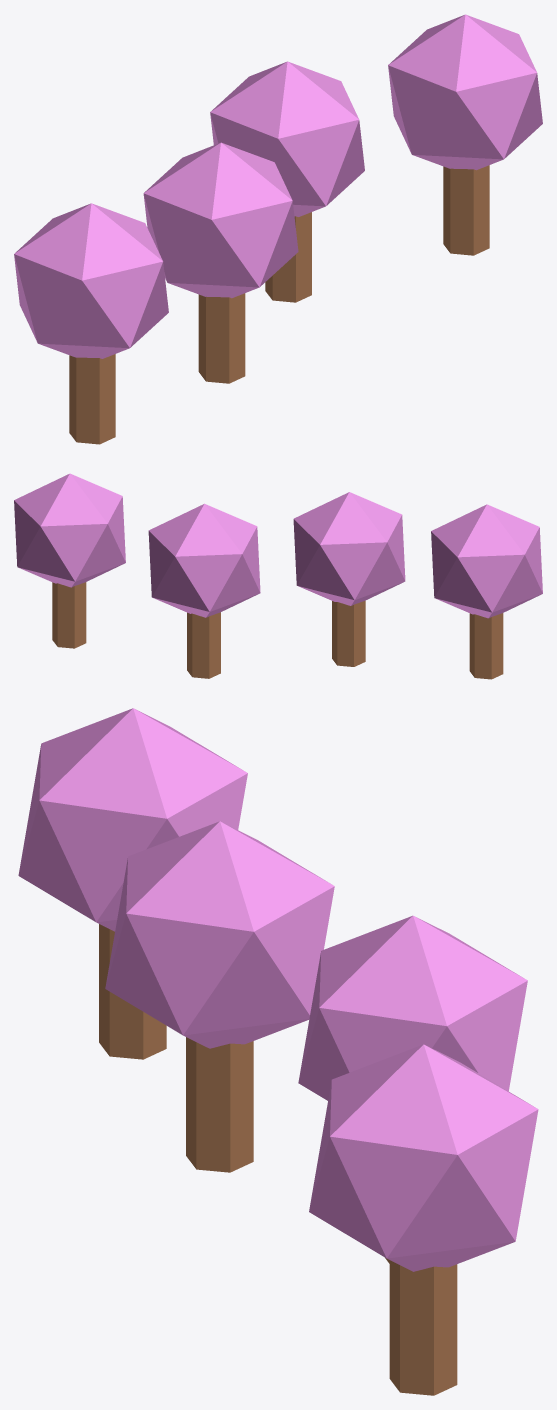
Rendered from 019_イチョウ009.glb.
The picture shows the model from 3 angles, top to bottom: view 1: azimuth 30°, elevation 25°; view 2: azimuth 150°, elevation 25°; view 3: azimuth 270°, elevation 25°; orthographic projection. The views are drawn at different scales.
Visible parts, largest first — view 1: 球010_1, 球010; view 2: 球010_1, 球010; view 3: 球010_1, 球010.
Part boxes in pixels (x1=…): 球010_1: x1=14, y1=14, x2=542, y2=358; 球010: x1=69, y1=165, x2=489, y2=444; 球010_1: x1=14, y1=473, x2=542, y2=618; 球010: x1=52, y1=582, x2=503, y2=679; 球010_1: x1=18, y1=708, x2=538, y2=1271; 球010: x1=99, y1=924, x2=457, y2=1395.
Size of the model in its own units: 11.09 by 4.06 by 5.68.
